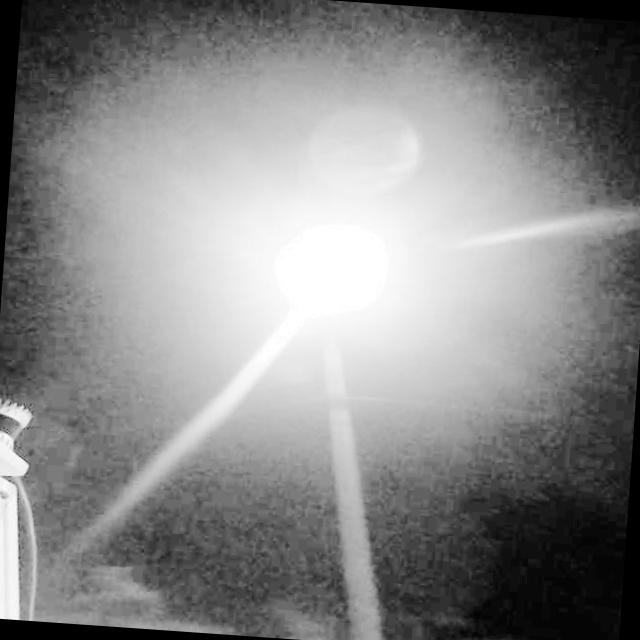Light: (250, 208, 401, 320)
